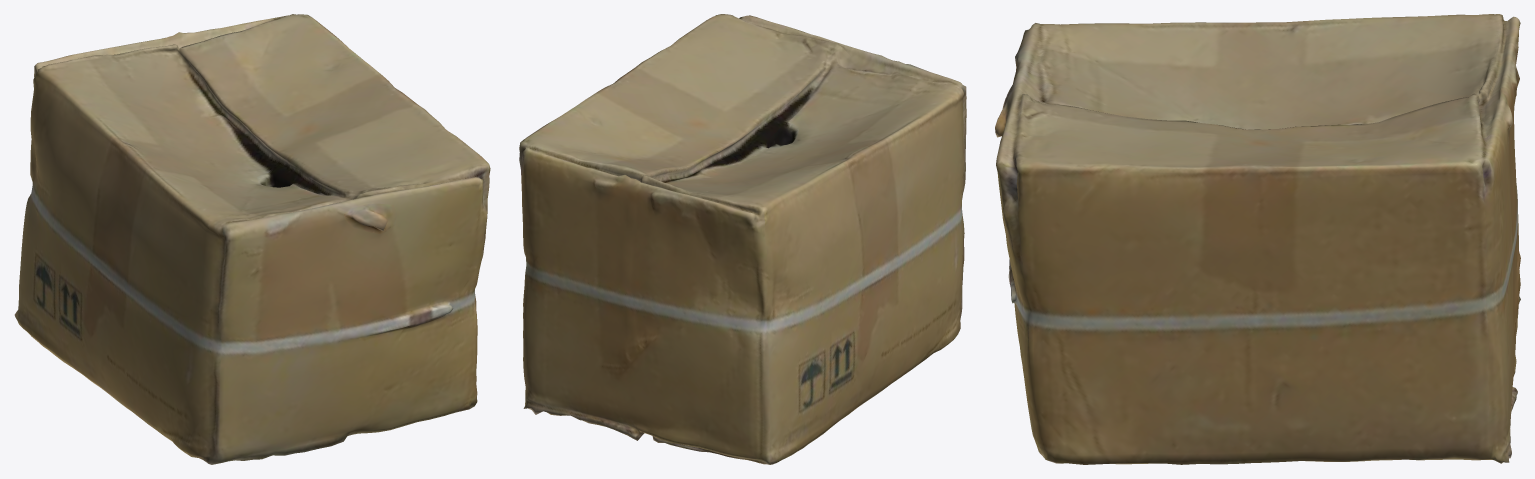
Rendered from cardboard_box_01.glb.
The picture shows the model from 3 angles, left to right: view 1: azimuth 30°, elevation 25°; view 2: azimuth 150°, elevation 25°; view 3: azimuth 270°, elevation 25°; orthographic projection. The views are drawn at different scales.
Parts seen in each view (by area): view 1: cardboard_box_01; view 2: cardboard_box_01; view 3: cardboard_box_01.
Boxes of the visible parts, left/top/right/bottom form: cardboard_box_01: left=14, top=14, right=490, bottom=464; cardboard_box_01: left=519, top=14, right=966, bottom=464; cardboard_box_01: left=995, top=14, right=1520, bottom=464.
Size of the model in its own units: 0.387 by 0.3418 by 0.5159.
1 material, 1 textured.
